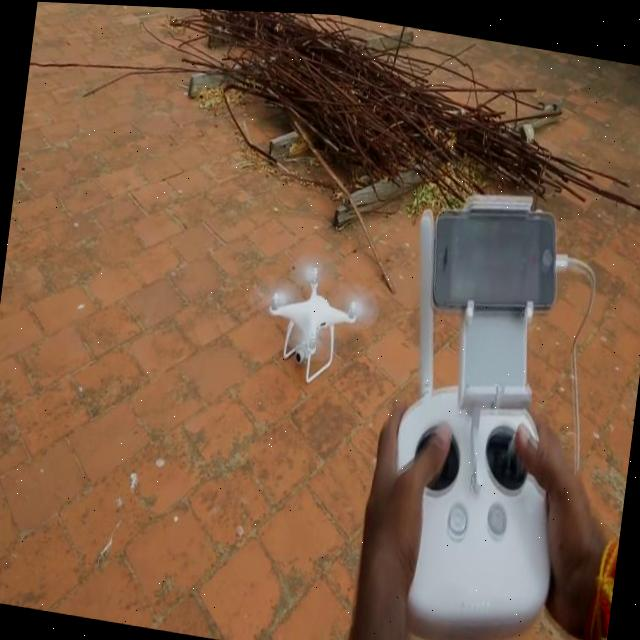drone: (254, 231, 381, 387)
